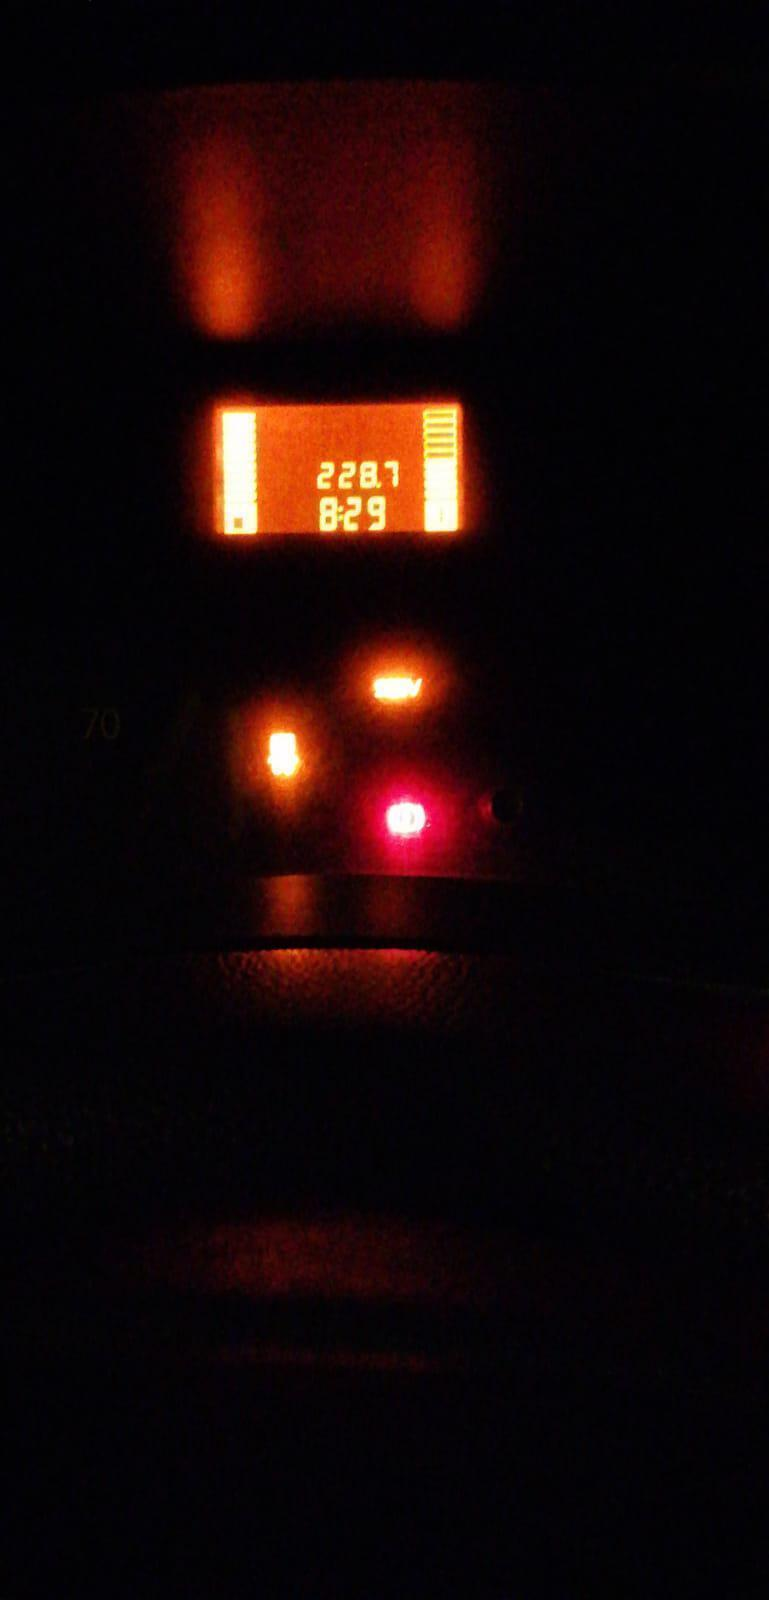,: (375, 480, 383, 488)
2: (342, 496, 361, 532), (315, 460, 335, 489), (337, 460, 356, 489)
7: (383, 460, 399, 487)
8: (318, 496, 338, 532), (359, 461, 378, 488)
9: (366, 495, 386, 531)
X: (337, 504, 344, 521)
odometer: (207, 397, 465, 538)
